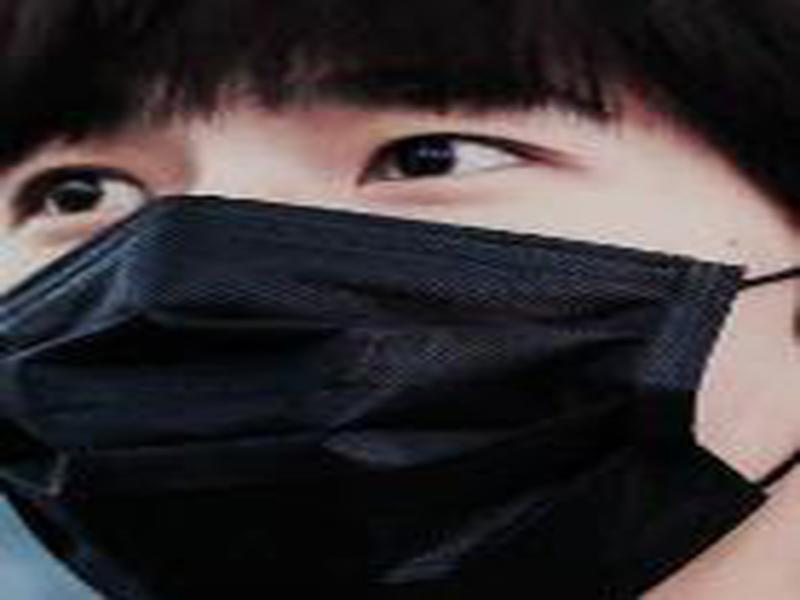with_mask: (1, 46, 796, 596)
